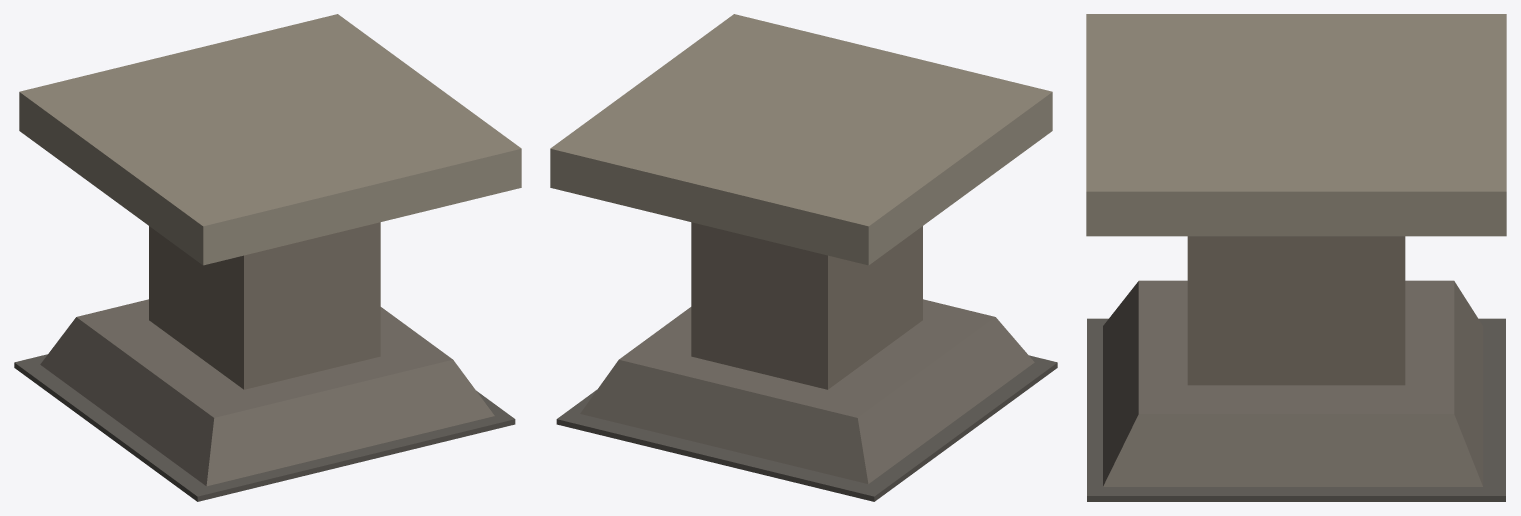
File: Platform_02.fbx
3 renders of one model, left to right at view 1: azimuth 30°, elevation 25°; view 2: azimuth 150°, elevation 25°; view 3: azimuth 270°, elevation 25°, orthographic. The views are drawn at different scales.
Visible parts, largest first — view 1: pCube5; view 2: pCube5; view 3: pCube5.
Boxes of the visible parts, x1,y1,x2,y2 form: pCube5: (14,14,521,501); pCube5: (550,14,1057,501); pCube5: (1086,14,1506,501).
Bounding box in the file's own units: 4.95 × 4.01 × 4.87.
